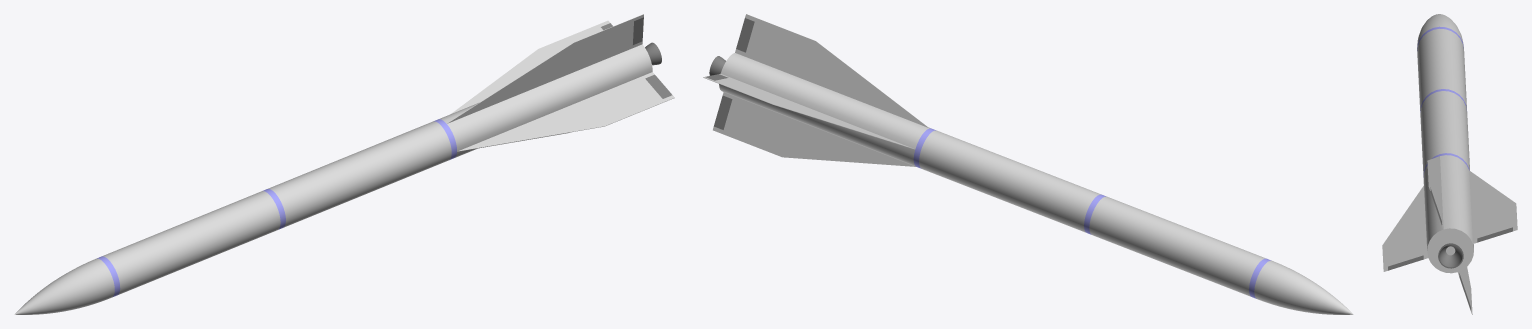
Rendered from left_missile.glb.
The picture shows the model from 3 angles, left to right: view 1: azimuth 30°, elevation 25°; view 2: azimuth 150°, elevation 25°; view 3: azimuth 270°, elevation 25°; orthographic projection. The views are drawn at different scales.
Parts seen in each view (by area): view 1: Material2.001, Material2.002, Material2; view 2: Material2.001, Material2.002, Material2; view 3: Material2.001, Material2.002, Material2.
Boxes of the visible parts, <box> form: Material2.001: <box>14,14,674,314</box>; Material2.002: <box>601,17,672,98</box>; Material2: <box>97,119,456,297</box>; Material2.001: <box>703,14,1353,314</box>; Material2.002: <box>705,18,754,129</box>; Material2: <box>913,128,1271,298</box>; Material2.001: <box>1382,14,1517,314</box>; Material2.002: <box>1388,187,1512,310</box>; Material2: <box>1417,26,1469,177</box>.
Bounding box in the file's own units: 140 × 32.73 × 22.72.
